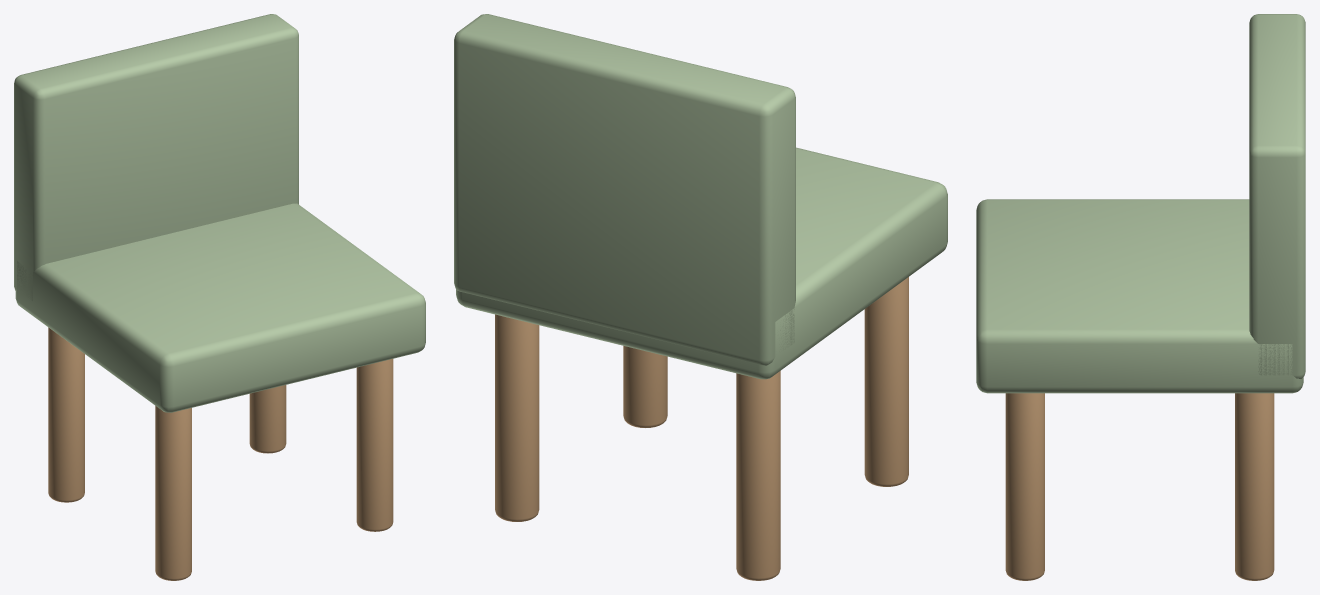
File: visitor-chair.glb
3 renders of one model, left to right at view 1: azimuth 30°, elevation 25°; view 2: azimuth 150°, elevation 25°; view 3: azimuth 270°, elevation 25°, orthographic. The views are drawn at different scales.
Visible parts, largest first — view 1: back.001, seat.002, leg-3.006, leg-1.006, leg-2.006, leg-4.006; view 2: back.001, seat.002, leg-2.006, leg-4.006, leg-1.006, leg-3.006; view 3: seat.002, back.001, leg-3.006, leg-4.006.
Boxes of the visible parts, x1,y1,x2,y2 form: back.001: (14,14,298,300); seat.002: (15,203,425,412); leg-3.006: (356,359,393,531); leg-1.006: (155,406,191,580); leg-2.006: (48,327,84,502); leg-4.006: (249,385,286,453); back.001: (454,14,795,365); seat.002: (456,147,947,379); leg-2.006: (736,371,780,580); leg-4.006: (495,314,539,521); leg-1.006: (864,277,908,486); leg-3.006: (623,346,667,427); seat.002: (976,199,1303,393); back.001: (1249,14,1305,378); leg-3.006: (1005,393,1044,580); leg-4.006: (1235,393,1274,580).
Bounding box in the file's own units: 0.58 × 0.8624 × 0.5836.
